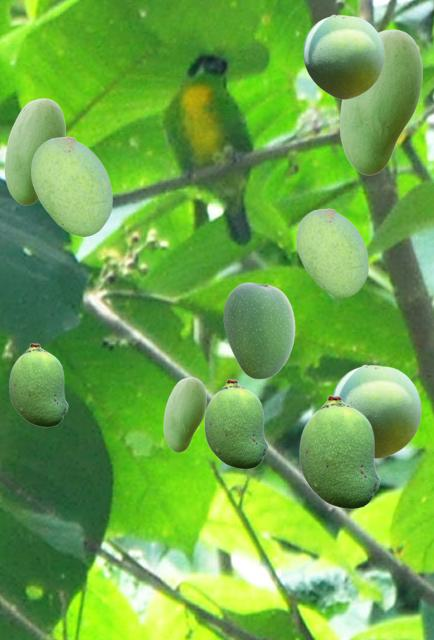green_mango: (339, 29, 421, 174), (299, 395, 379, 508), (332, 364, 420, 457), (31, 136, 111, 235), (223, 282, 294, 378), (303, 14, 383, 98), (4, 98, 64, 204), (296, 208, 367, 296), (204, 379, 267, 468), (9, 343, 67, 426), (163, 377, 205, 451)
